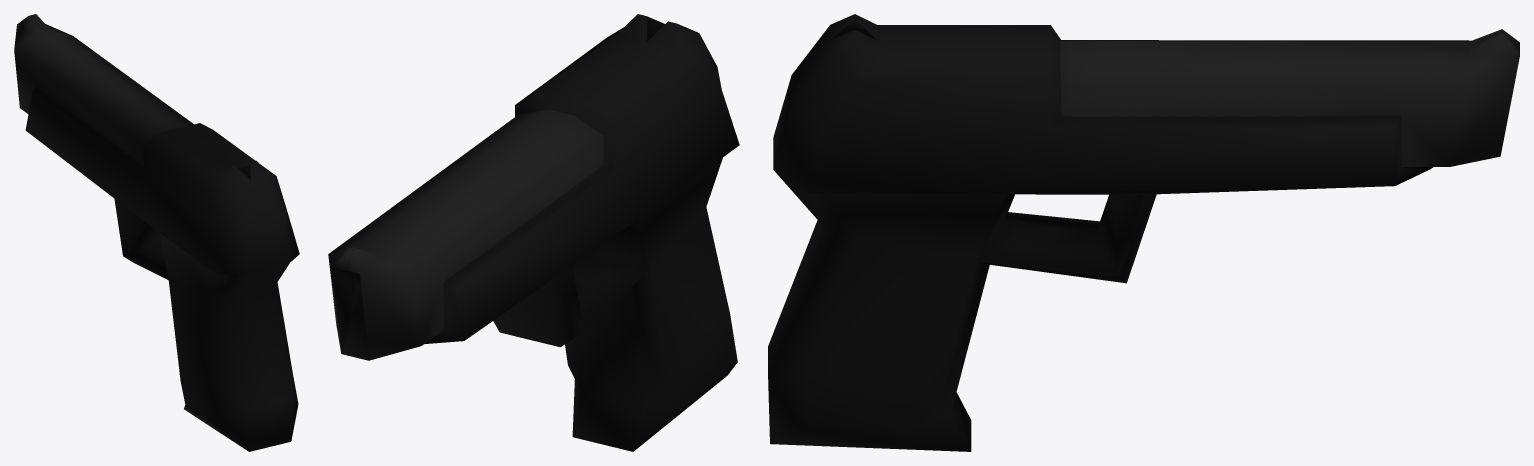
File: Pistol.glb
3 renders of one model, left to right at view 1: azimuth 30°, elevation 25°; view 2: azimuth 150°, elevation 25°; view 3: azimuth 270°, elevation 25°, orthographic. The views are drawn at different scales.
Parts seen in each view (by area): view 1: Pistol; view 2: Pistol; view 3: Pistol.
Part boxes in pixels (<box>): Pistol: <box>14,14,299,451</box>; Pistol: <box>328,14,739,451</box>; Pistol: <box>768,14,1519,451</box>.
Bounding box in the file's own units: 1.76 × 5.41 × 8.94.
Materials: 1 (1 with a texture image).
